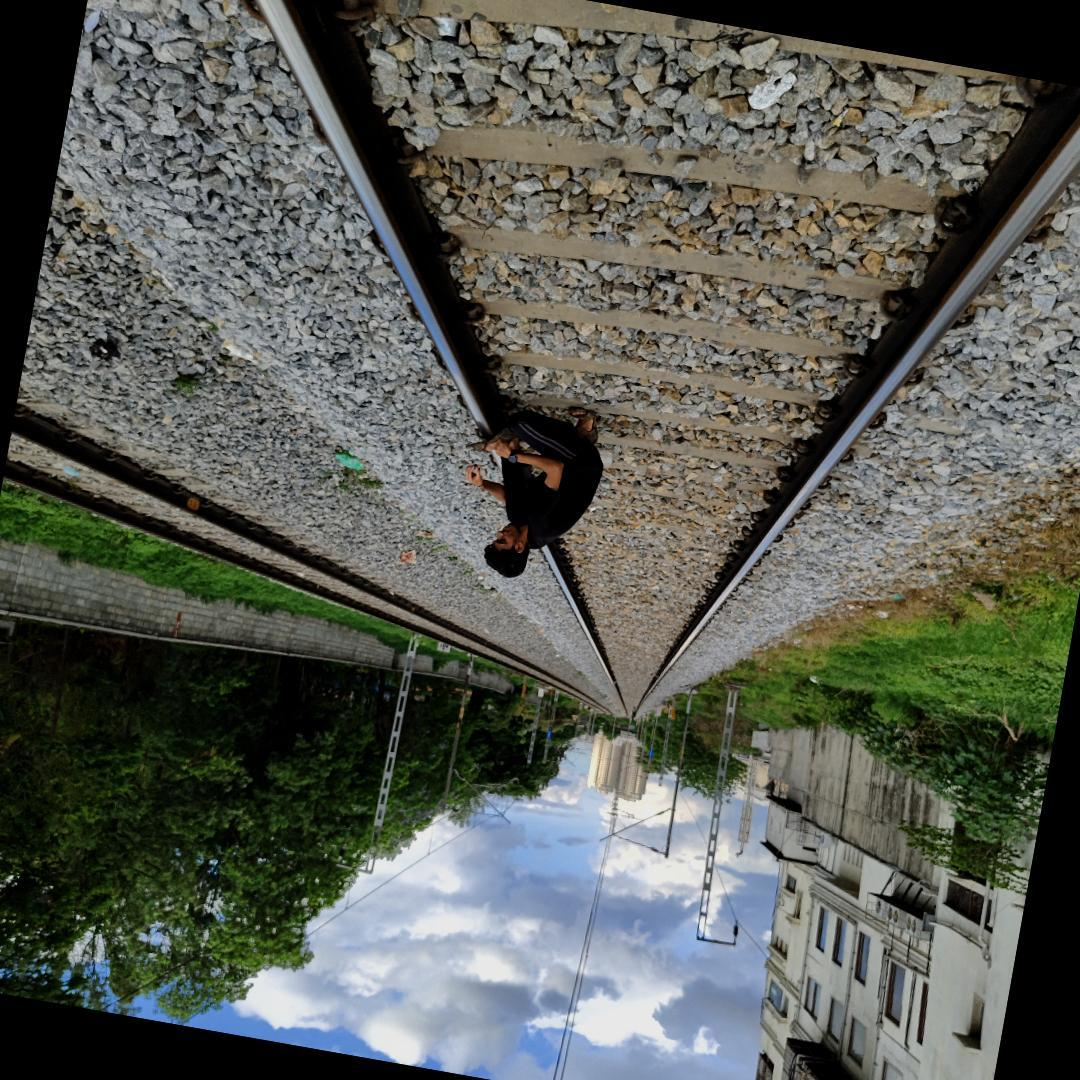sitting: (455, 389, 618, 590)
